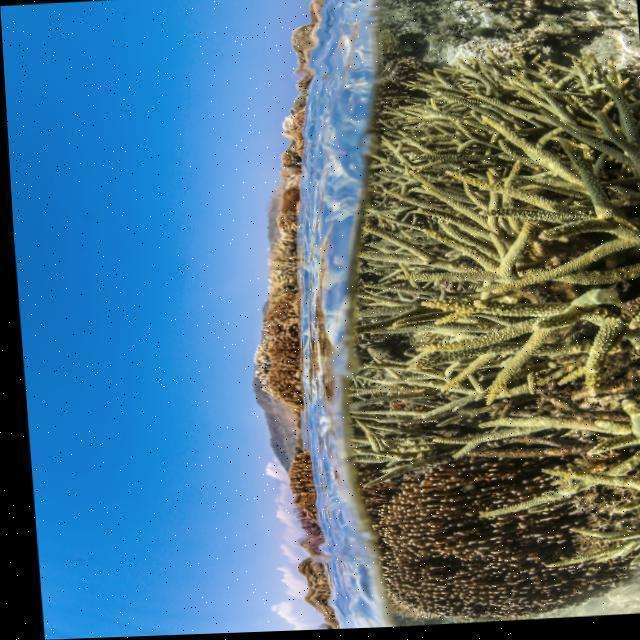Healthy Coral: (352, 86, 640, 607)
